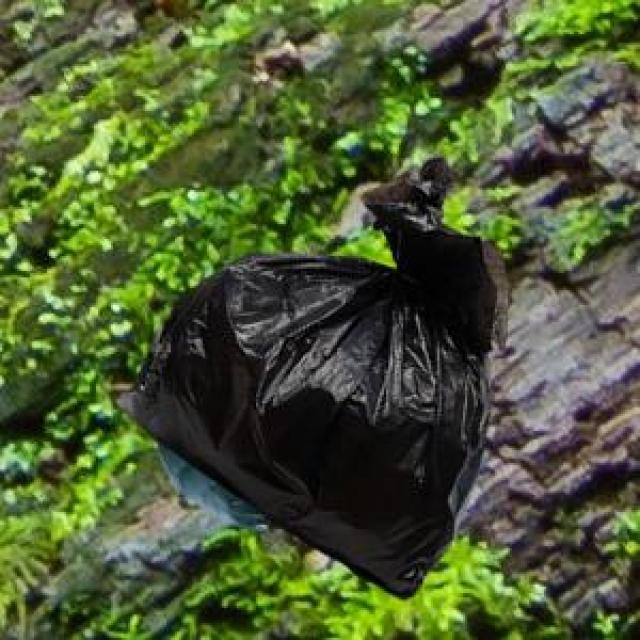Trashbag: (116, 149, 503, 603)
